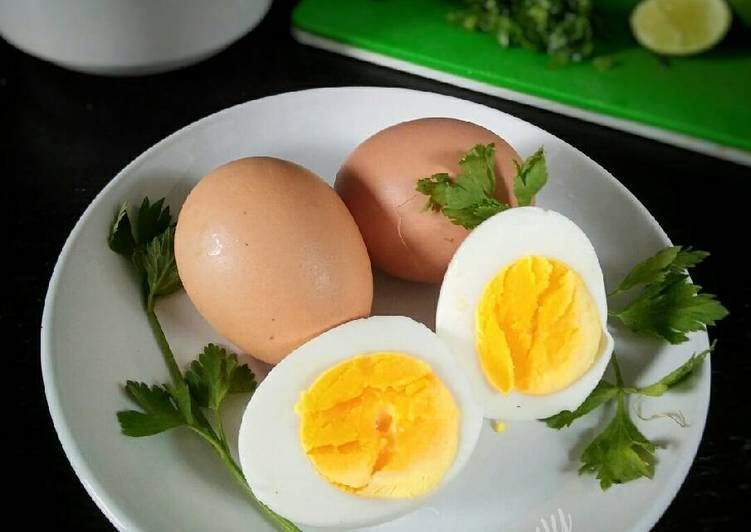Telur: (233, 315, 458, 511), (464, 224, 602, 436)
